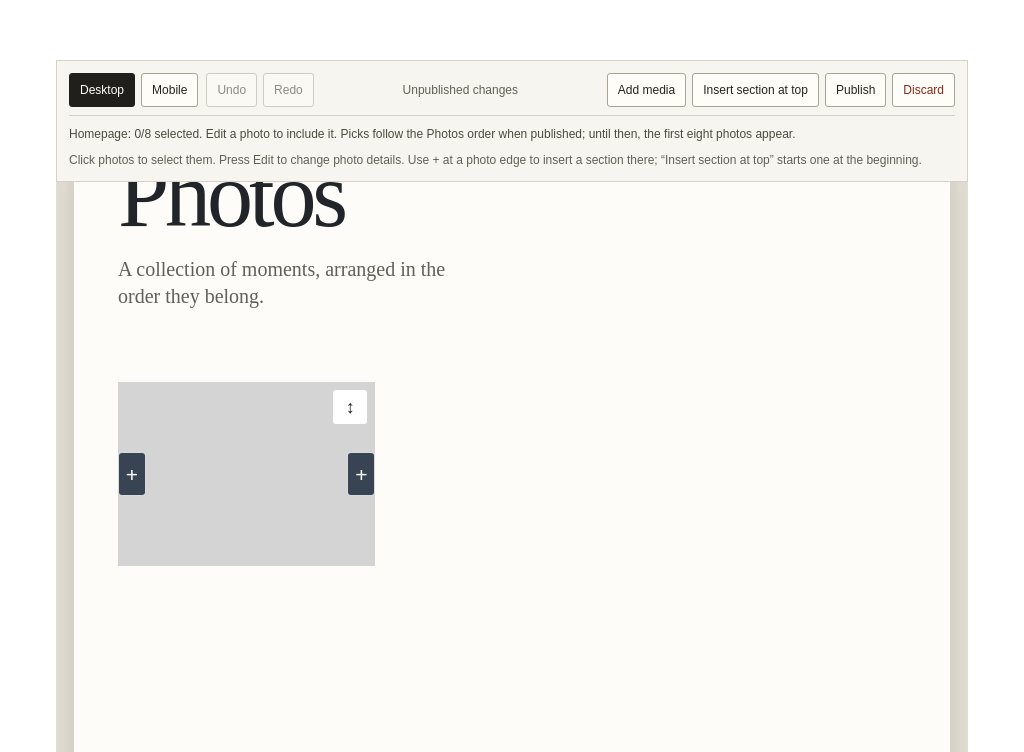
Scenario: PhotosWorkspace sections › shows publish issues and opens the affected photo for correction
The image size is (1024, 752).
Click the button "Publish" at (856, 90), box top-left (825, 73), bottom-right (886, 107)
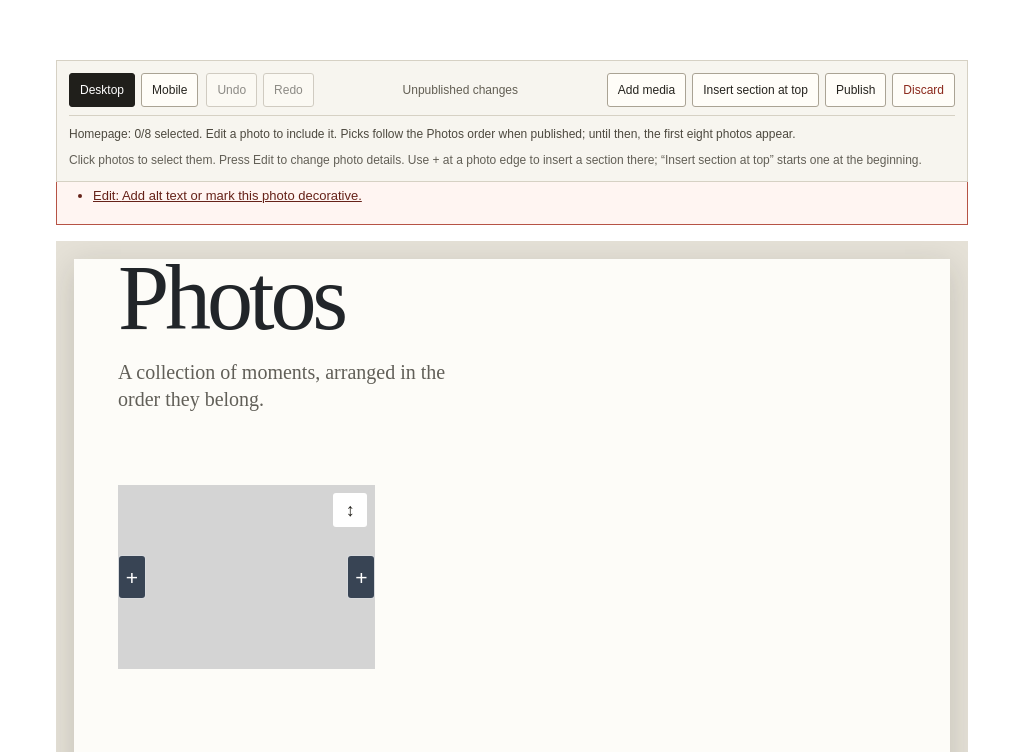
Expected: the message shows "Fix this photo before publishing.", top-left (75, 155), bottom-right (259, 170)
Click the button "Edit: Add alt text or mark this photo decorative." at (227, 196), box top-left (93, 182), bottom-right (362, 210)
(page scrolled)
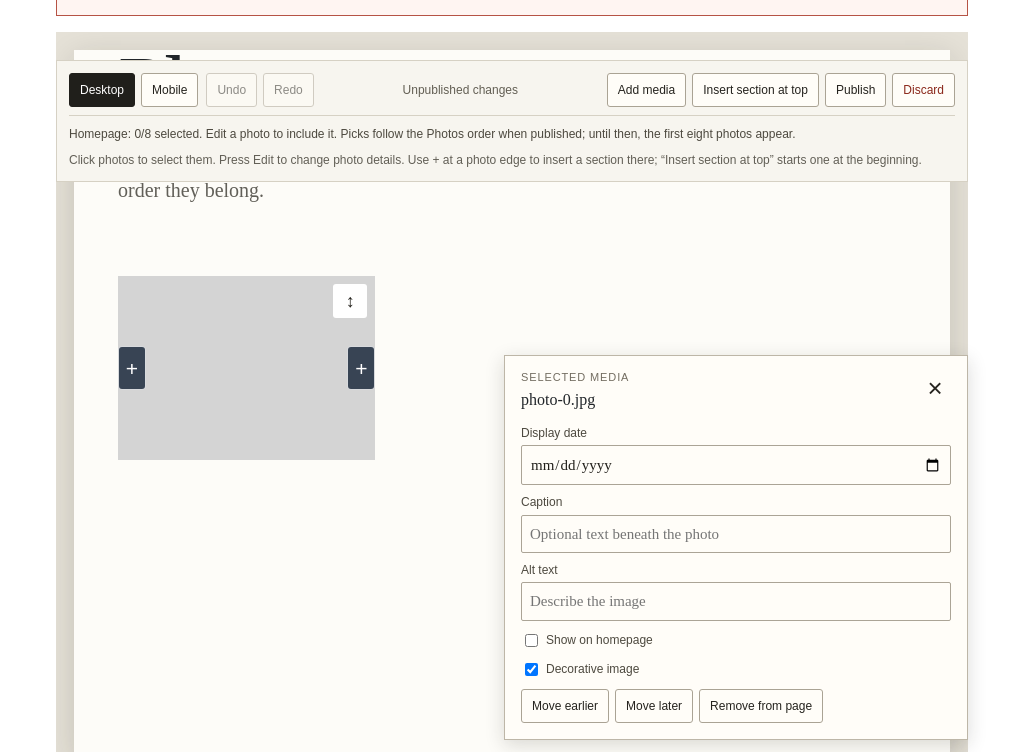
Expected: the button "Publish" is enabled, top-left (825, 73), bottom-right (886, 107)
Expected: the element named "Selected photo inspector" shows "photo-0.jpg", top-left (521, 391), bottom-right (595, 408)
